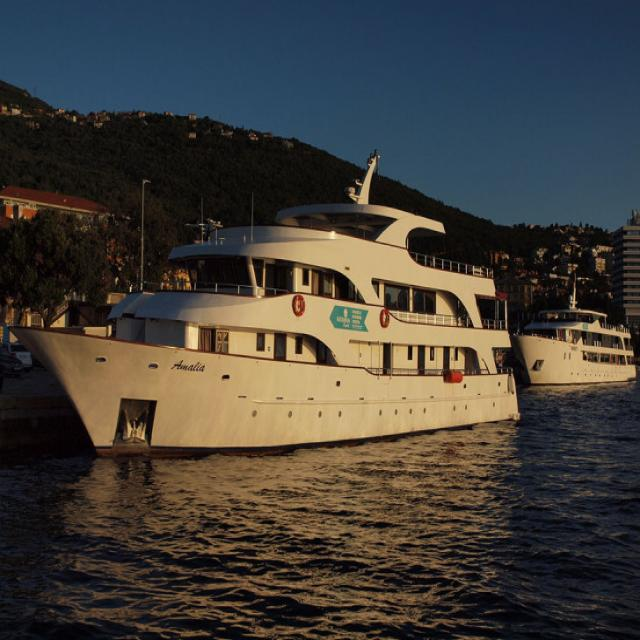cruises: (3, 148, 527, 468), (517, 288, 640, 397)
